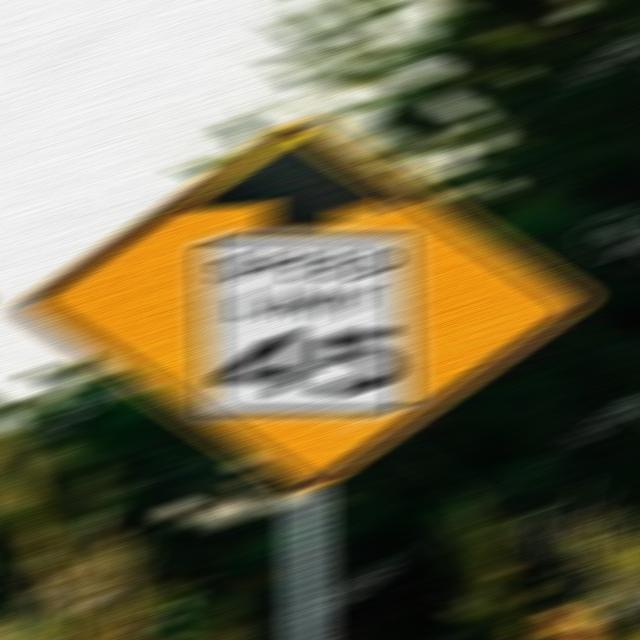speedLimit45: (198, 227, 418, 415)
